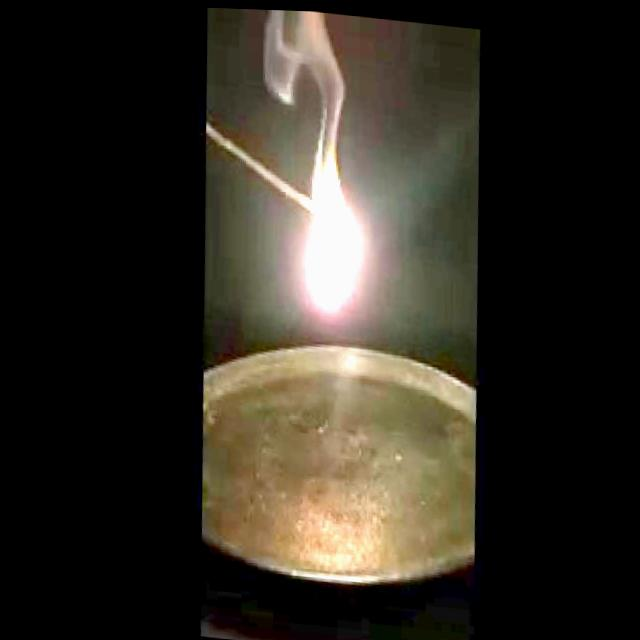Fire: (295, 142, 360, 310)
